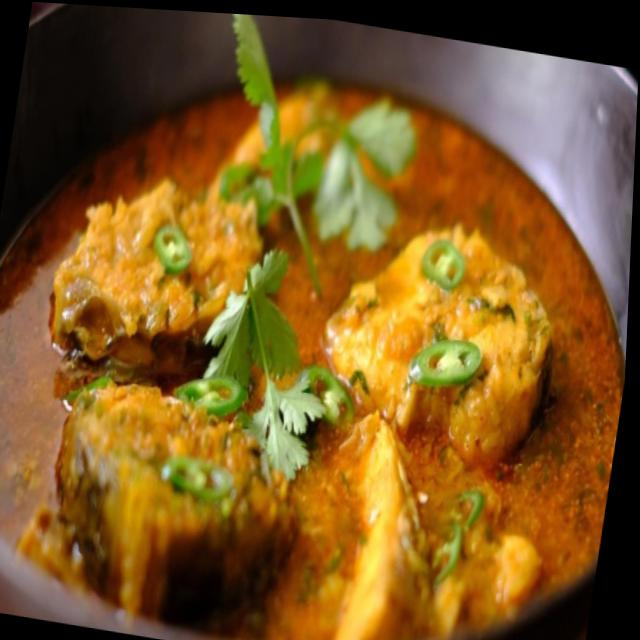FISH CURRY: (19, 83, 624, 640)
